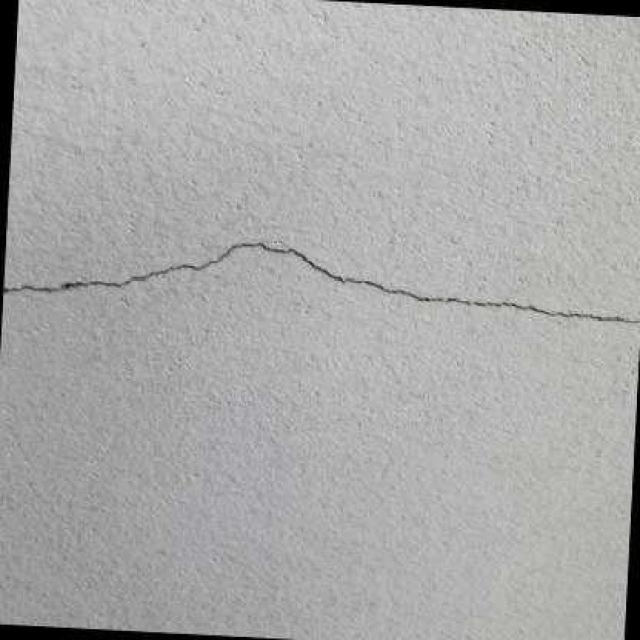D00: (1, 241, 640, 323)
